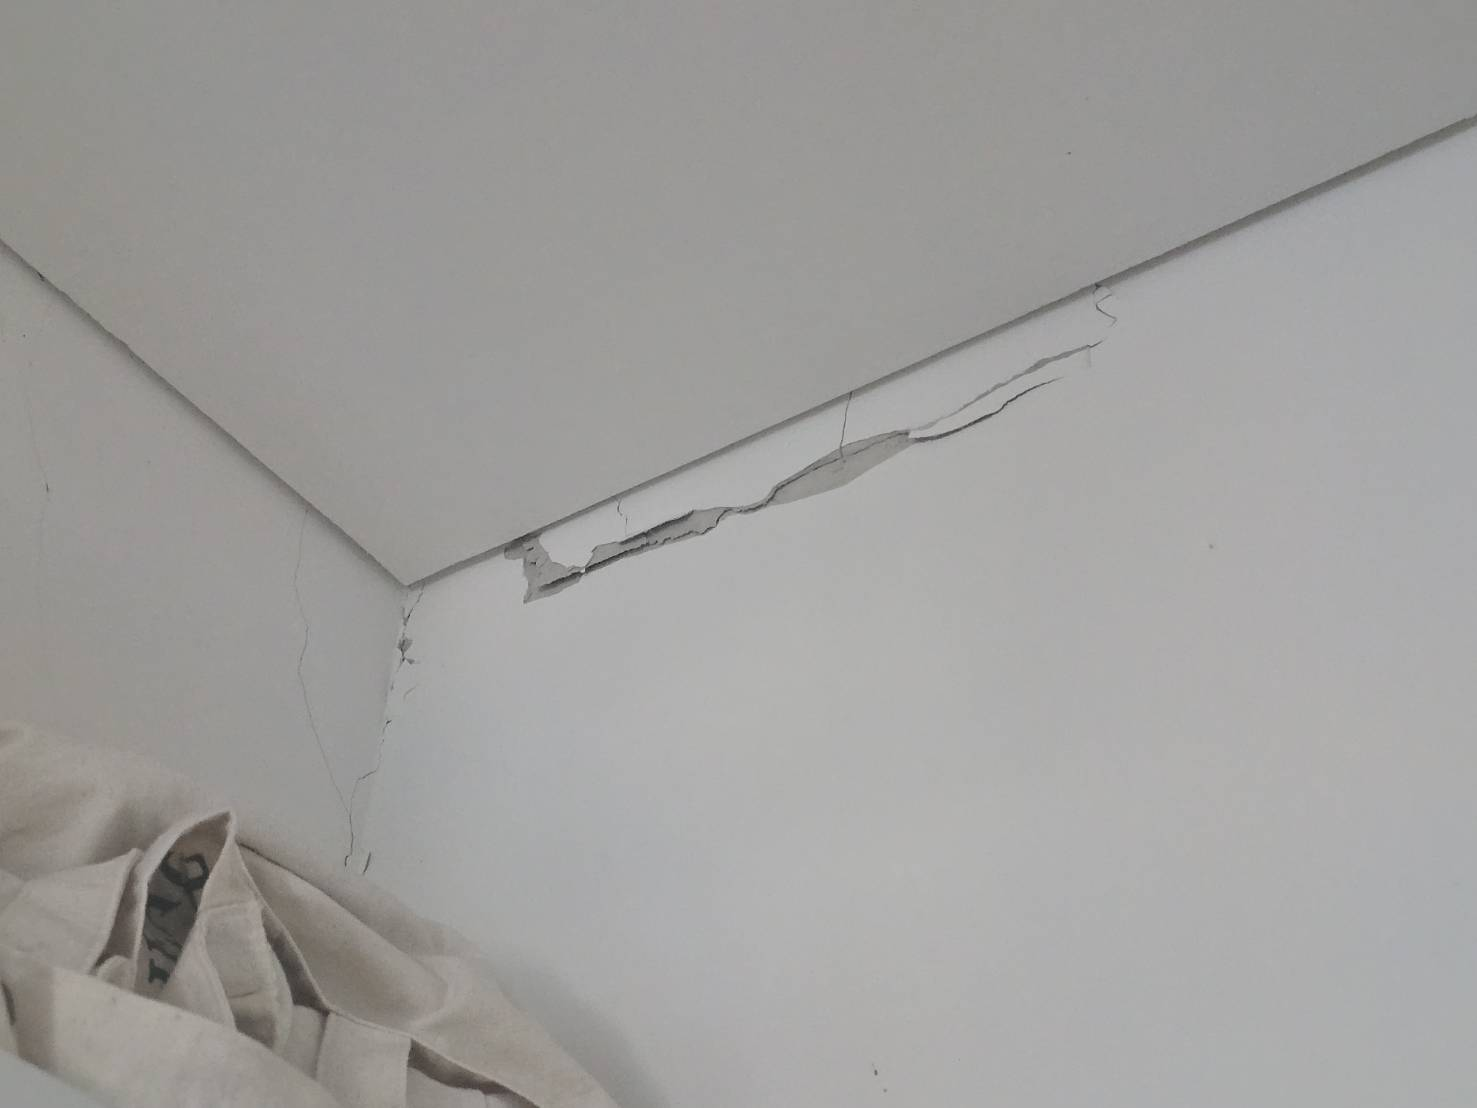Low: (511, 277, 1146, 603)
